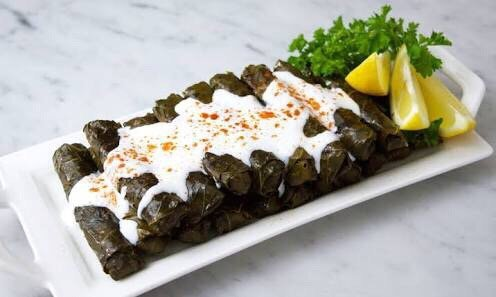curry: (278, 3, 455, 86)
